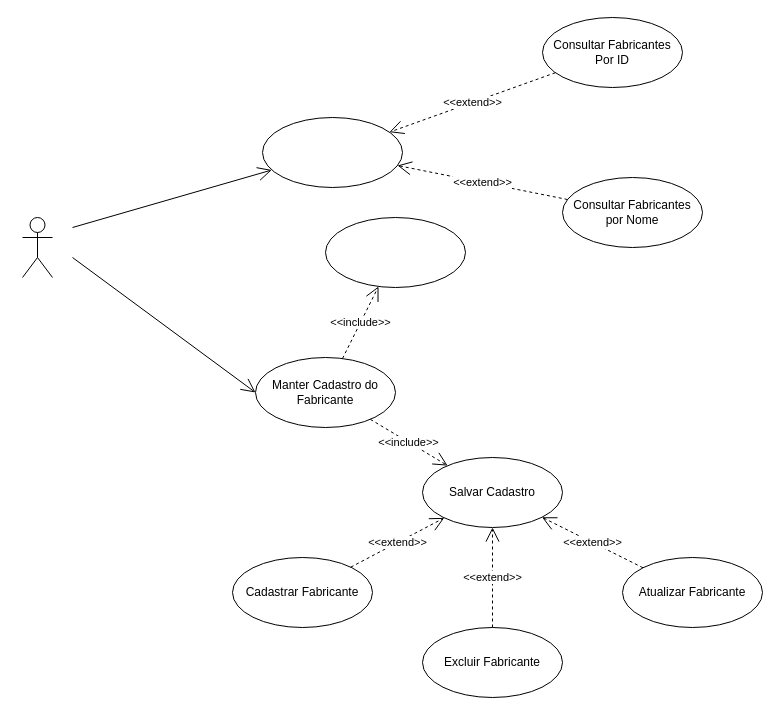
Some shapes in this 780 by 715 pixel diagram are drawn without their labels. Each missing label, with the centre of its shape:
Consultar Fabricantes: the point at 332,152
Usuario: the point at 37,247
Validar Fabricante: the point at 395,252
